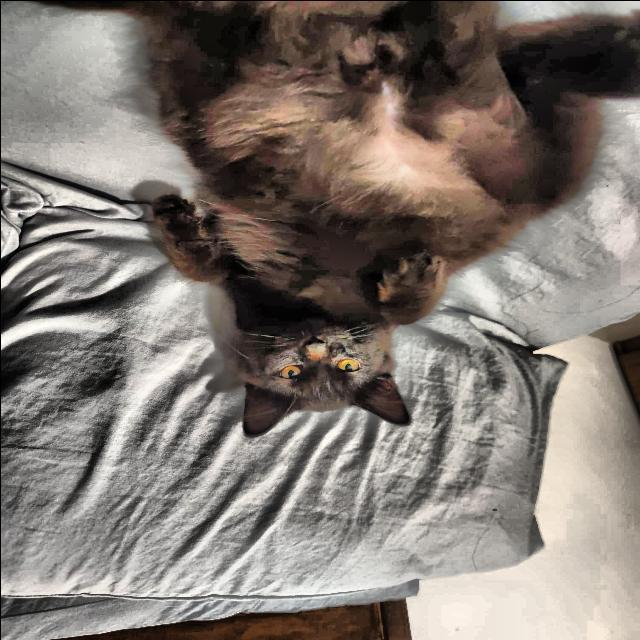Healthy skin: (270, 132, 455, 246), (326, 375, 428, 439), (153, 190, 232, 259)
